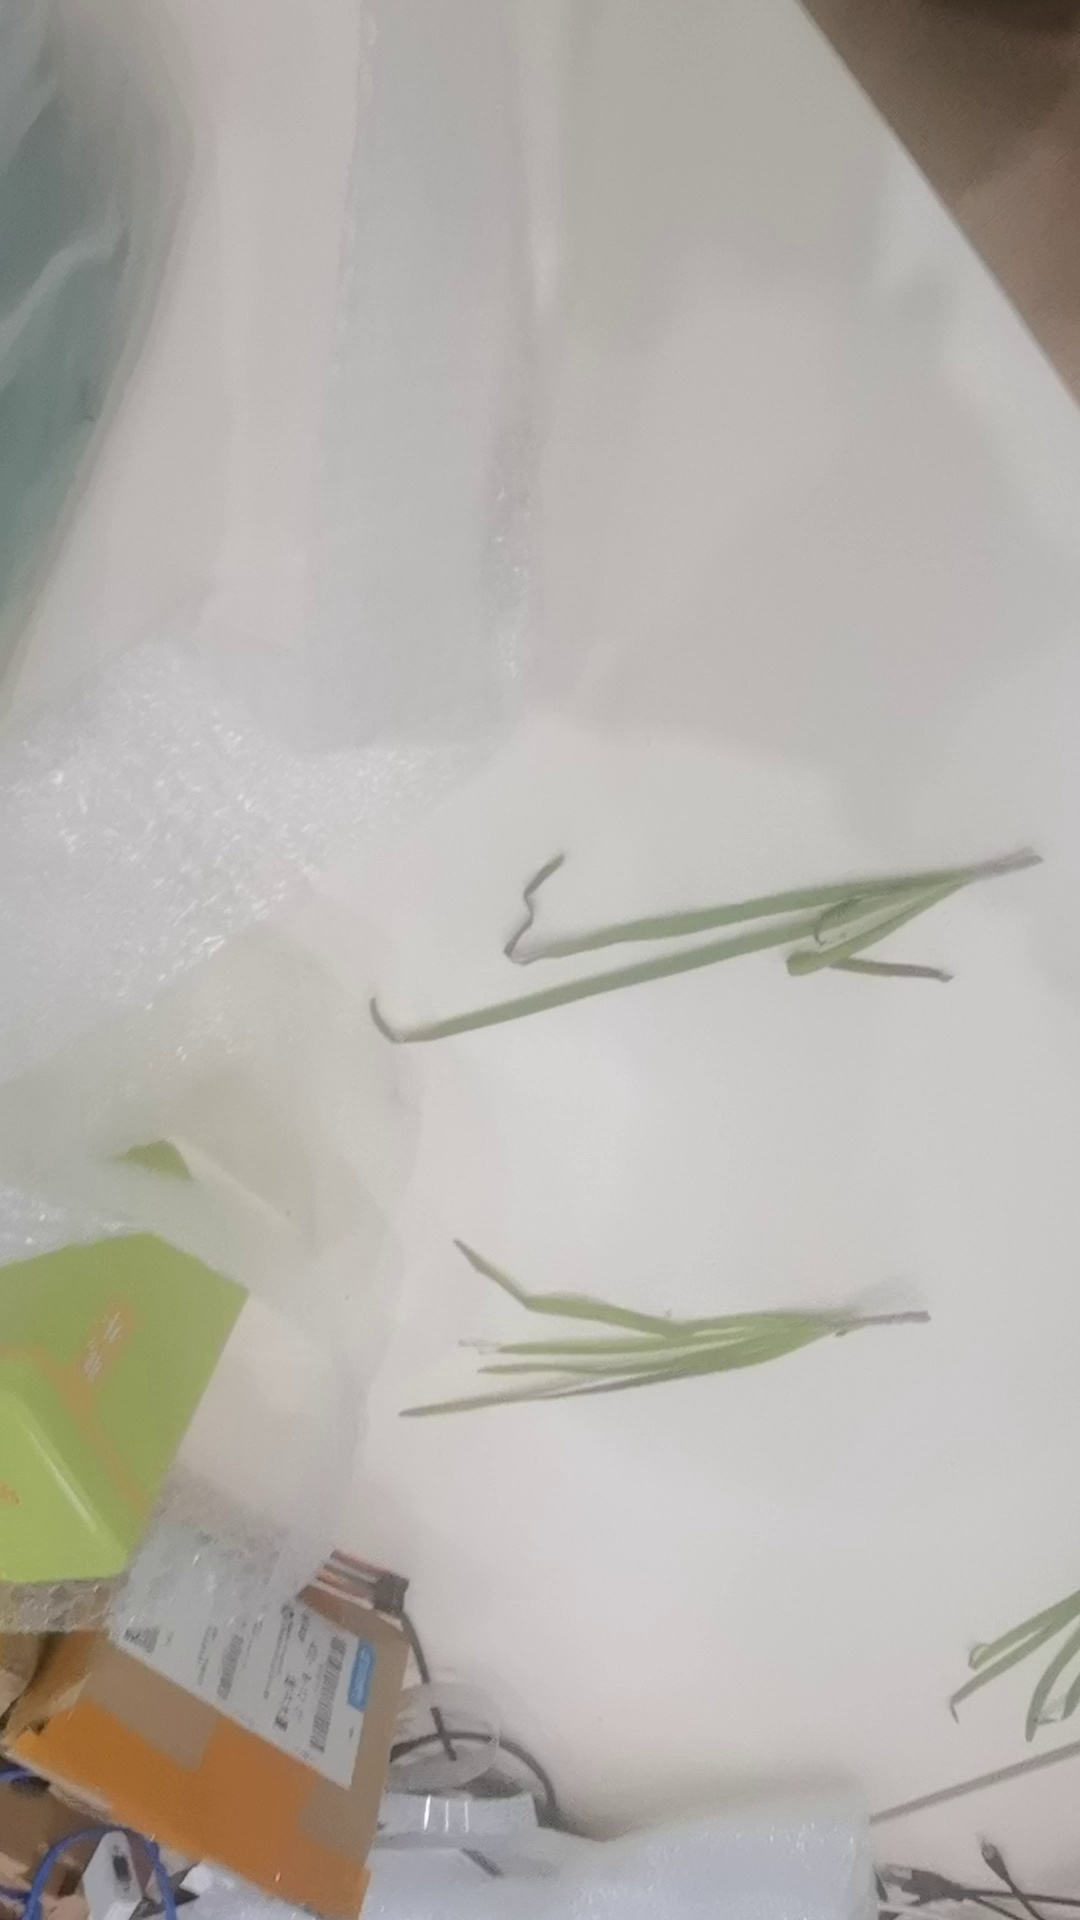chives: (381, 1227, 953, 1443), (377, 841, 1075, 1015)
